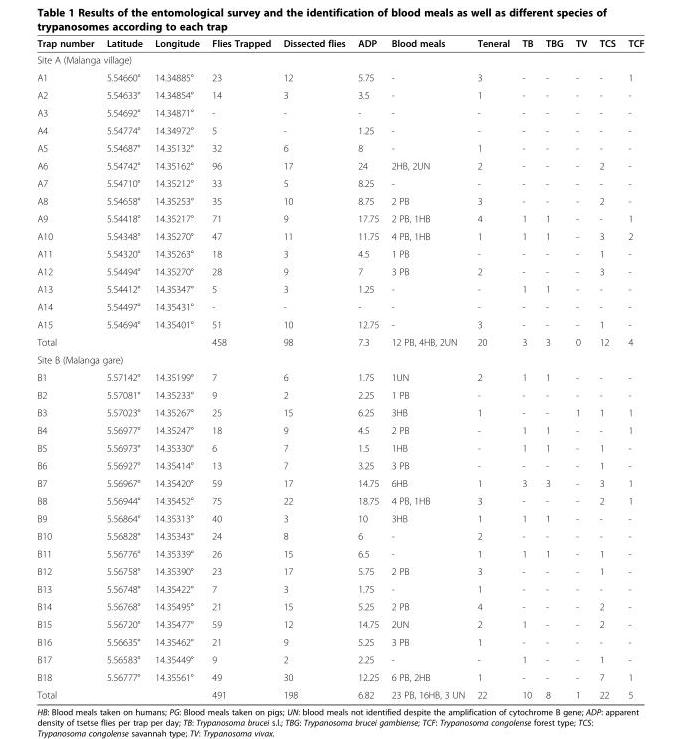table: (36, 37, 643, 700)
table column: (384, 37, 470, 700), (276, 37, 351, 700), (205, 37, 276, 700), (36, 37, 99, 700), (148, 37, 205, 700), (99, 37, 148, 700), (470, 37, 515, 700), (351, 37, 384, 700), (538, 37, 568, 700), (592, 37, 621, 700), (568, 37, 592, 700), (515, 37, 538, 700), (621, 37, 643, 700)
table column header: (36, 37, 643, 51)
table projected row header: (36, 350, 643, 368), (36, 51, 643, 68)
table row: (36, 85, 643, 103), (36, 103, 643, 121), (36, 138, 643, 156), (36, 156, 643, 174), (36, 191, 643, 209), (36, 209, 643, 227), (36, 244, 643, 262), (36, 279, 643, 297), (36, 297, 643, 315), (36, 332, 643, 350), (36, 350, 643, 368), (36, 385, 643, 403), (36, 403, 643, 421), (36, 438, 643, 456), (36, 456, 643, 474), (36, 491, 643, 509), (36, 526, 643, 544), (36, 544, 643, 562), (36, 579, 643, 597), (36, 597, 643, 615), (36, 632, 643, 650), (36, 650, 643, 668), (36, 51, 643, 68), (36, 68, 643, 85), (36, 121, 643, 138), (36, 174, 643, 191), (36, 227, 643, 244), (36, 262, 643, 279), (36, 315, 643, 332), (36, 368, 643, 385), (36, 421, 643, 438), (36, 474, 643, 491), (36, 509, 643, 526), (36, 562, 643, 579), (36, 615, 643, 632), (36, 668, 643, 685), (36, 685, 643, 700), (36, 37, 643, 51)
